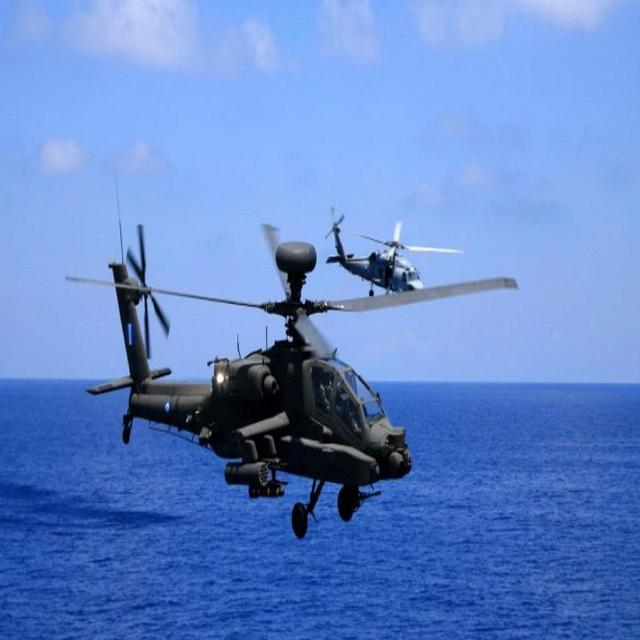MIL_HELO: (61, 217, 520, 543), (313, 197, 467, 304)
